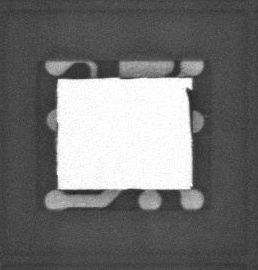DIE_BROKEN: (185, 86, 194, 132)
